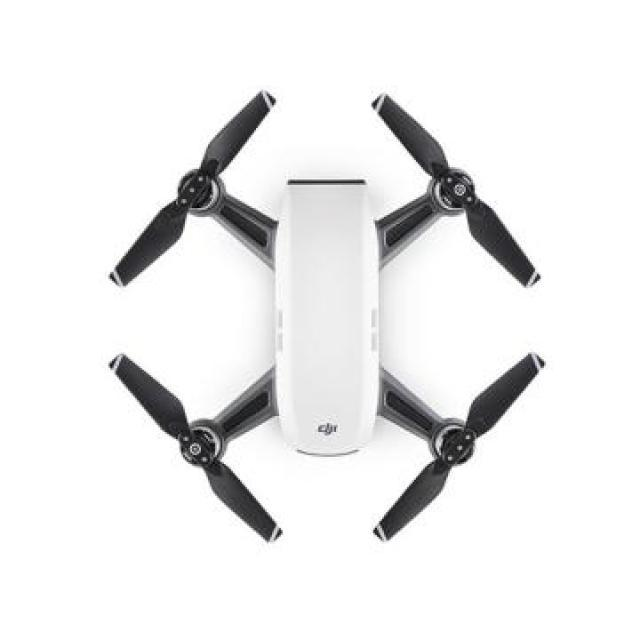drones: (96, 62, 540, 576)
